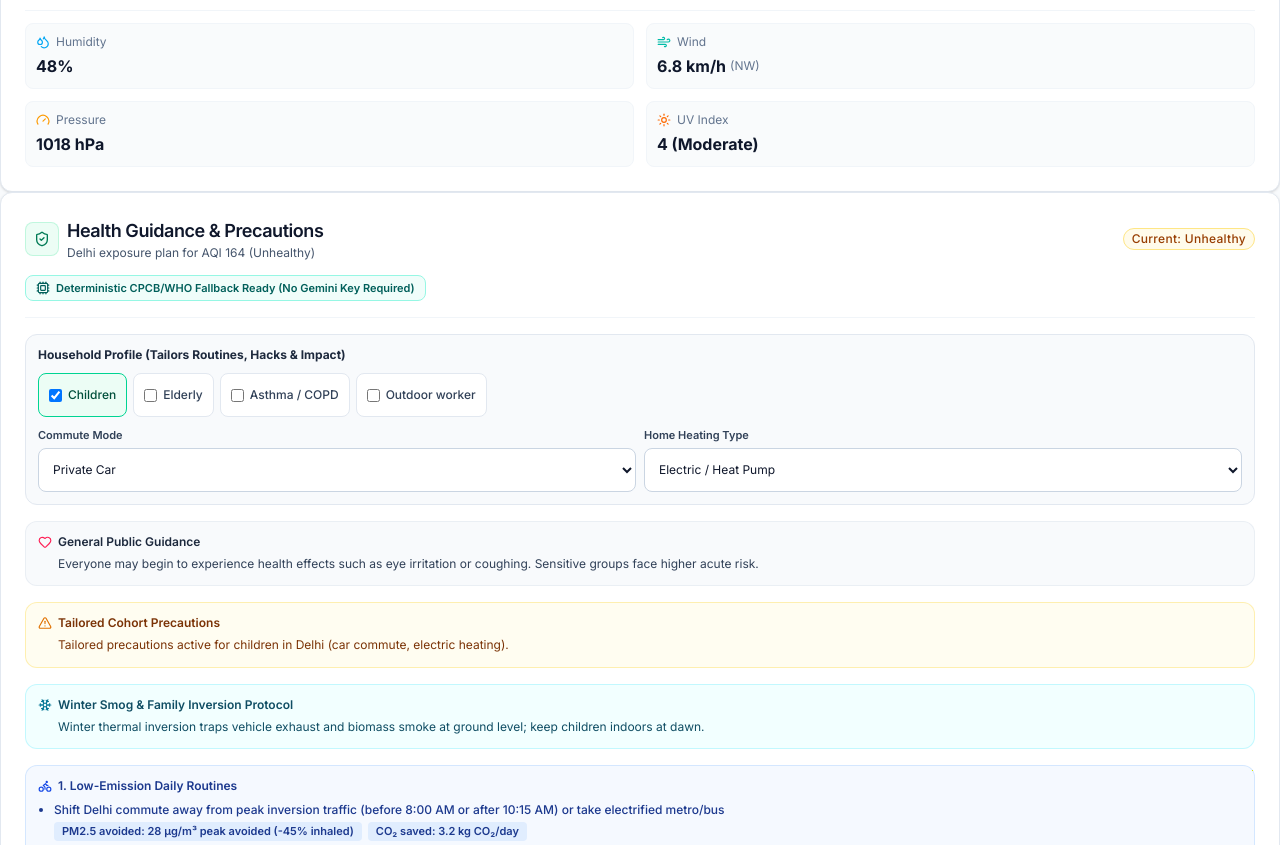
it: UI Components Render & Accessibility Verification › renders Dashboard cards (AQIOverviewCard, PollutantCard, WeatherCard, HealthRecommendation)
(page scrolled)
Expected: the heading "Health Guidance & Precautions" is shown, [67, 216, 323, 244]
Expected: the text "Winter Smog & Family Inversion Protocol" is shown, [58, 696, 293, 712]
Note: Exercise household profile controls (children/asthma/outdoor worker checkboxes + commute/heating selects)
Click the checkbox labelled "Asthma / COPD" at [237, 395], box [231, 388, 244, 402]
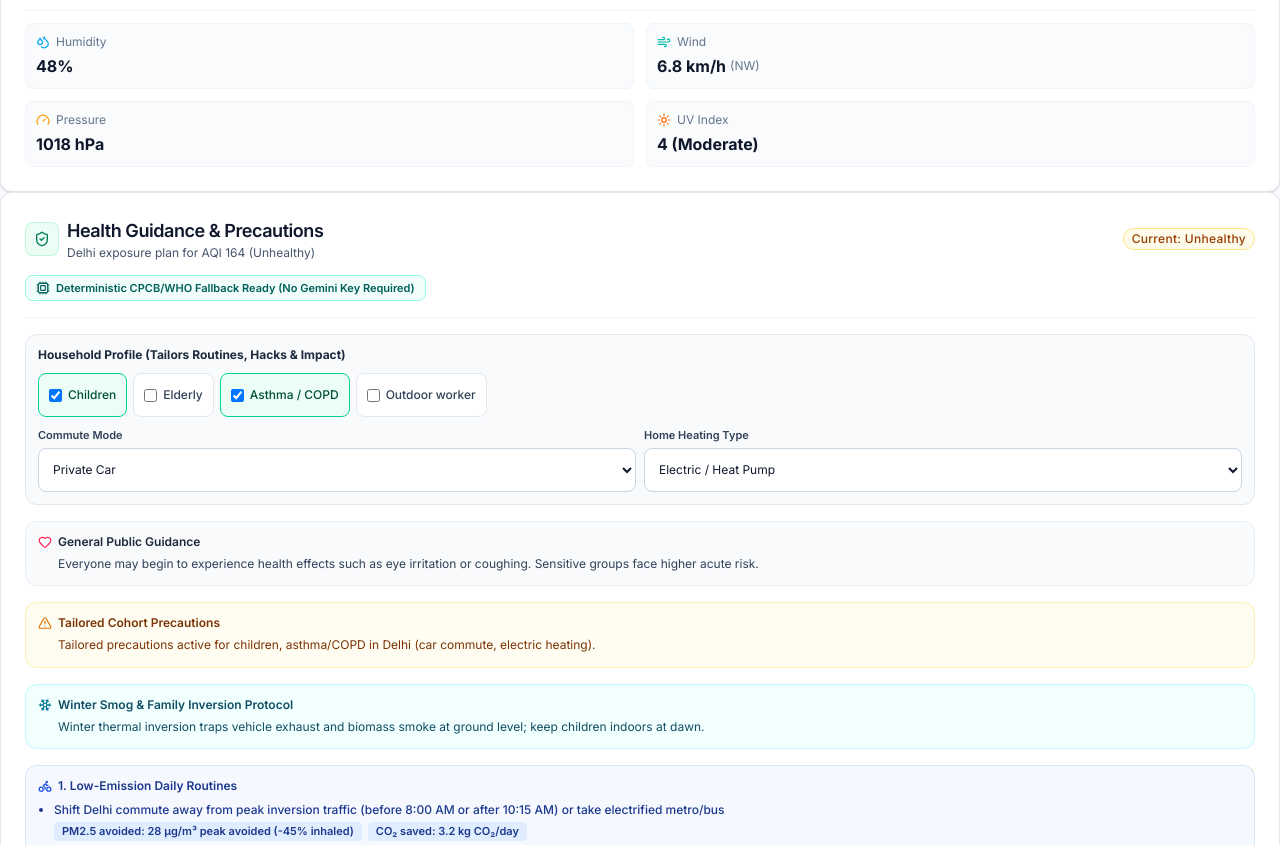
Click the checkbox labelled "Outdoor worker" at [373, 395], box [367, 388, 380, 402]
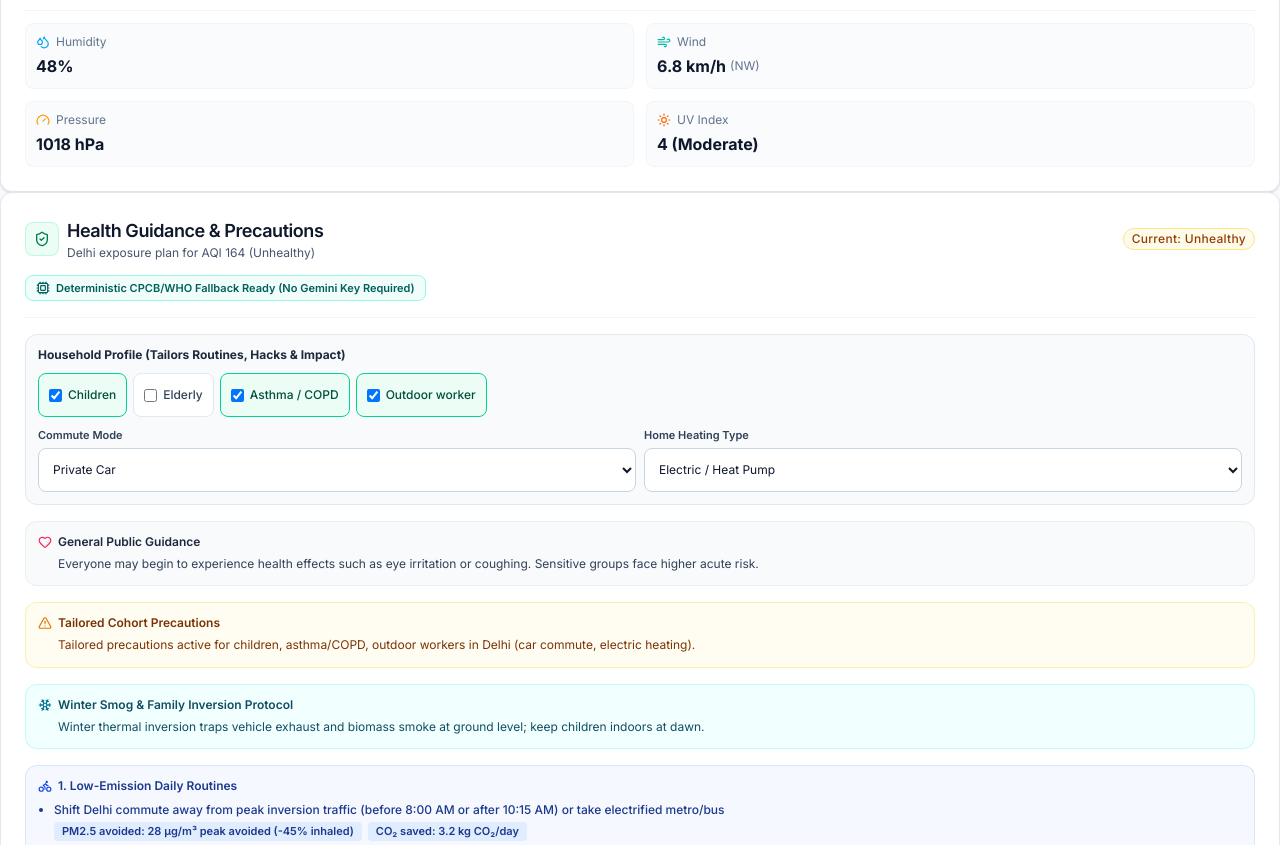
Select "Public Transit / Metro" in the dropdown labelled "Commute Mode" at [337, 470], box [38, 448, 636, 492]
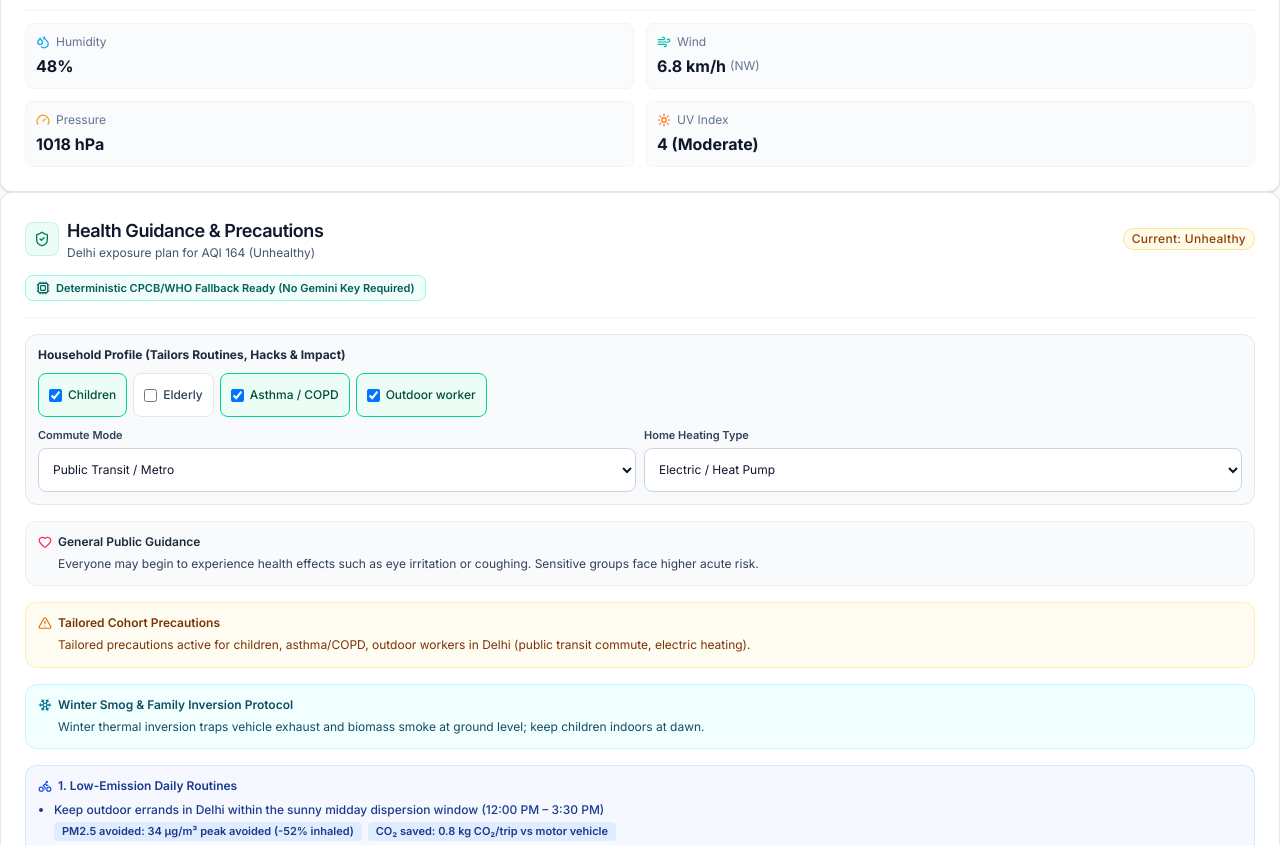
Select "Wood / Biomass" in the dropdown labelled "Home Heating Type" at [943, 470], box [644, 448, 1242, 492]
(page scrolled)
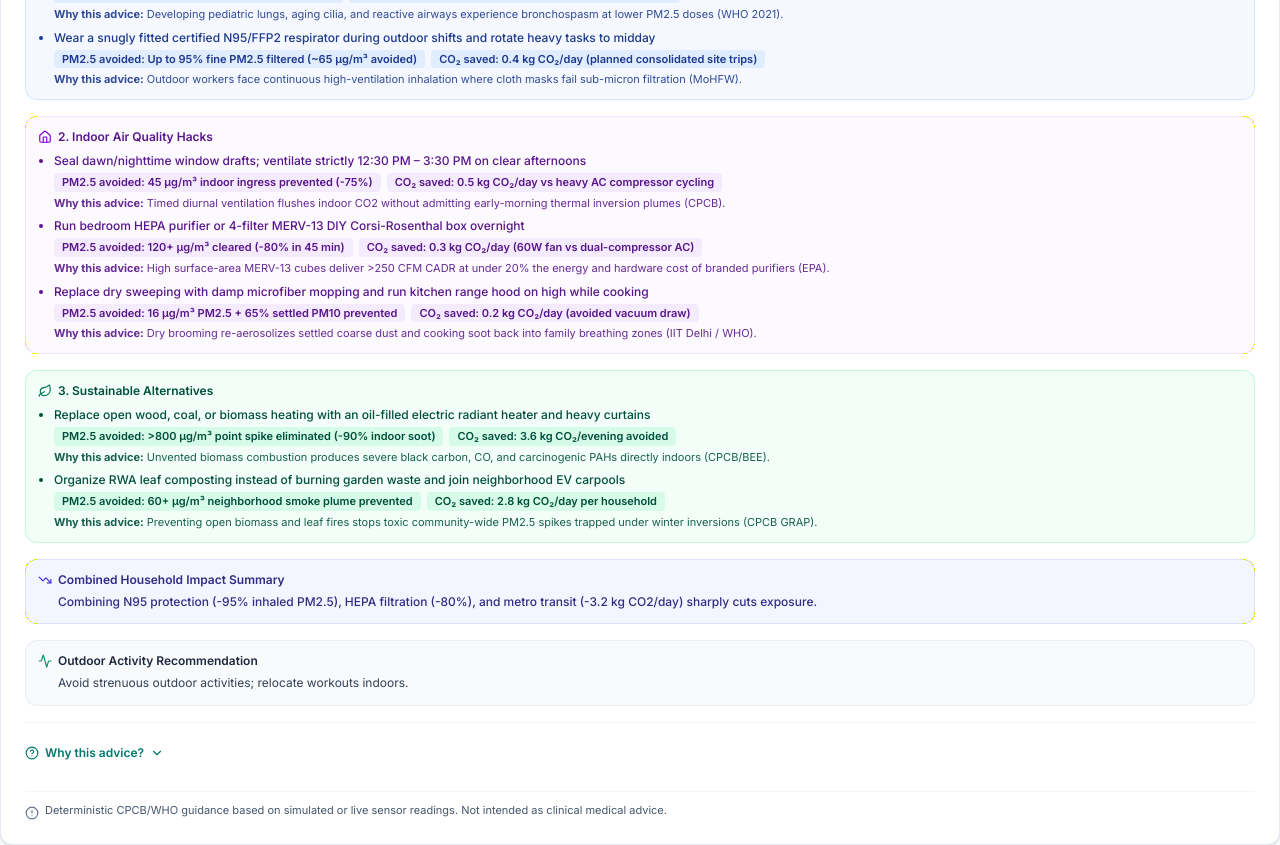
Result: the text "CO₂ saved: 3.6 kg CO₂/evening avoided" is shown at [450, 427, 676, 446]
